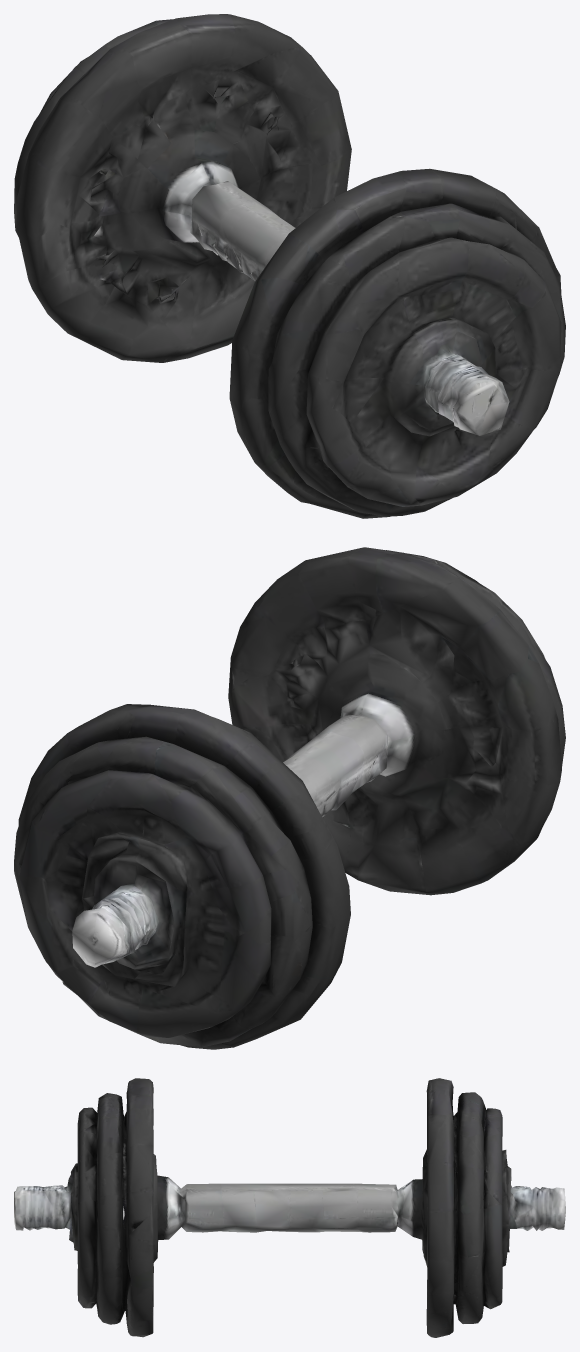
File: halter.glb
3 renders of one model, top to bottom at view 1: azimuth 30°, elevation 25°; view 2: azimuth 150°, elevation 25°; view 3: azimuth 270°, elevation 25°, orthographic. The views are drawn at different scales.
Bounding box in the file's own units: 0.1903 × 0.1882 × 0.4002.
Materials: 1 (1 with a texture image).
